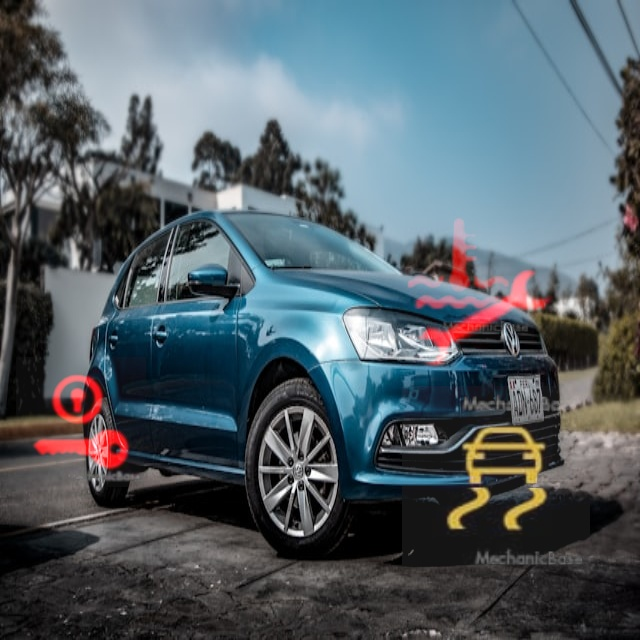symbol: (383, 218, 586, 421), (402, 386, 590, 574), (383, 188, 534, 339), (16, 357, 146, 487)
